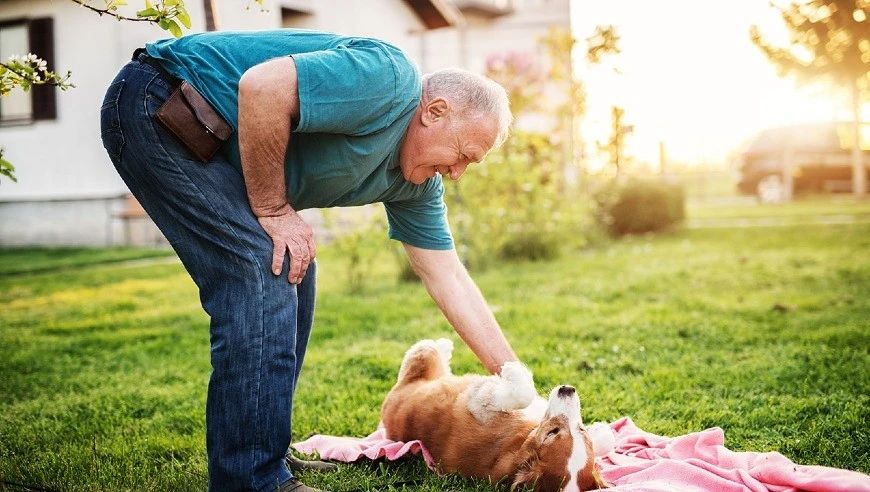bending: (93, 22, 503, 473)
